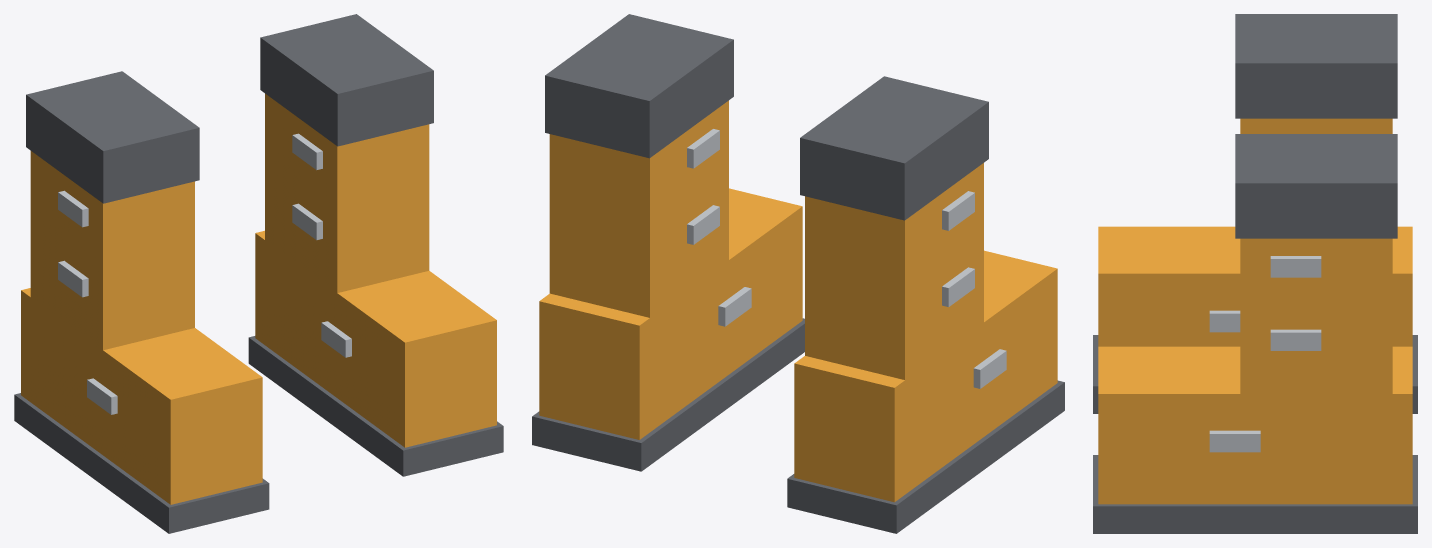
File: ski-resort-and-snow-park-ski-boots-117704f4__26012.glb
3 renders of one model, left to right at view 1: azimuth 30°, elevation 25°; view 2: azimuth 150°, elevation 25°; view 3: azimuth 270°, elevation 25°, orthographic. The views are drawn at different scales.
Parts seen in each view (by area): view 1: ski-boots; view 2: ski-boots; view 3: ski-boots.
Part boxes in pixels (x1,y1,x2,y2): ski-boots: (14,14,503,533); ski-boots: (532,14,1064,533); ski-boots: (1093,14,1417,533).
Bounding box in the file's own units: 0.405 × 0.38 × 0.32.
